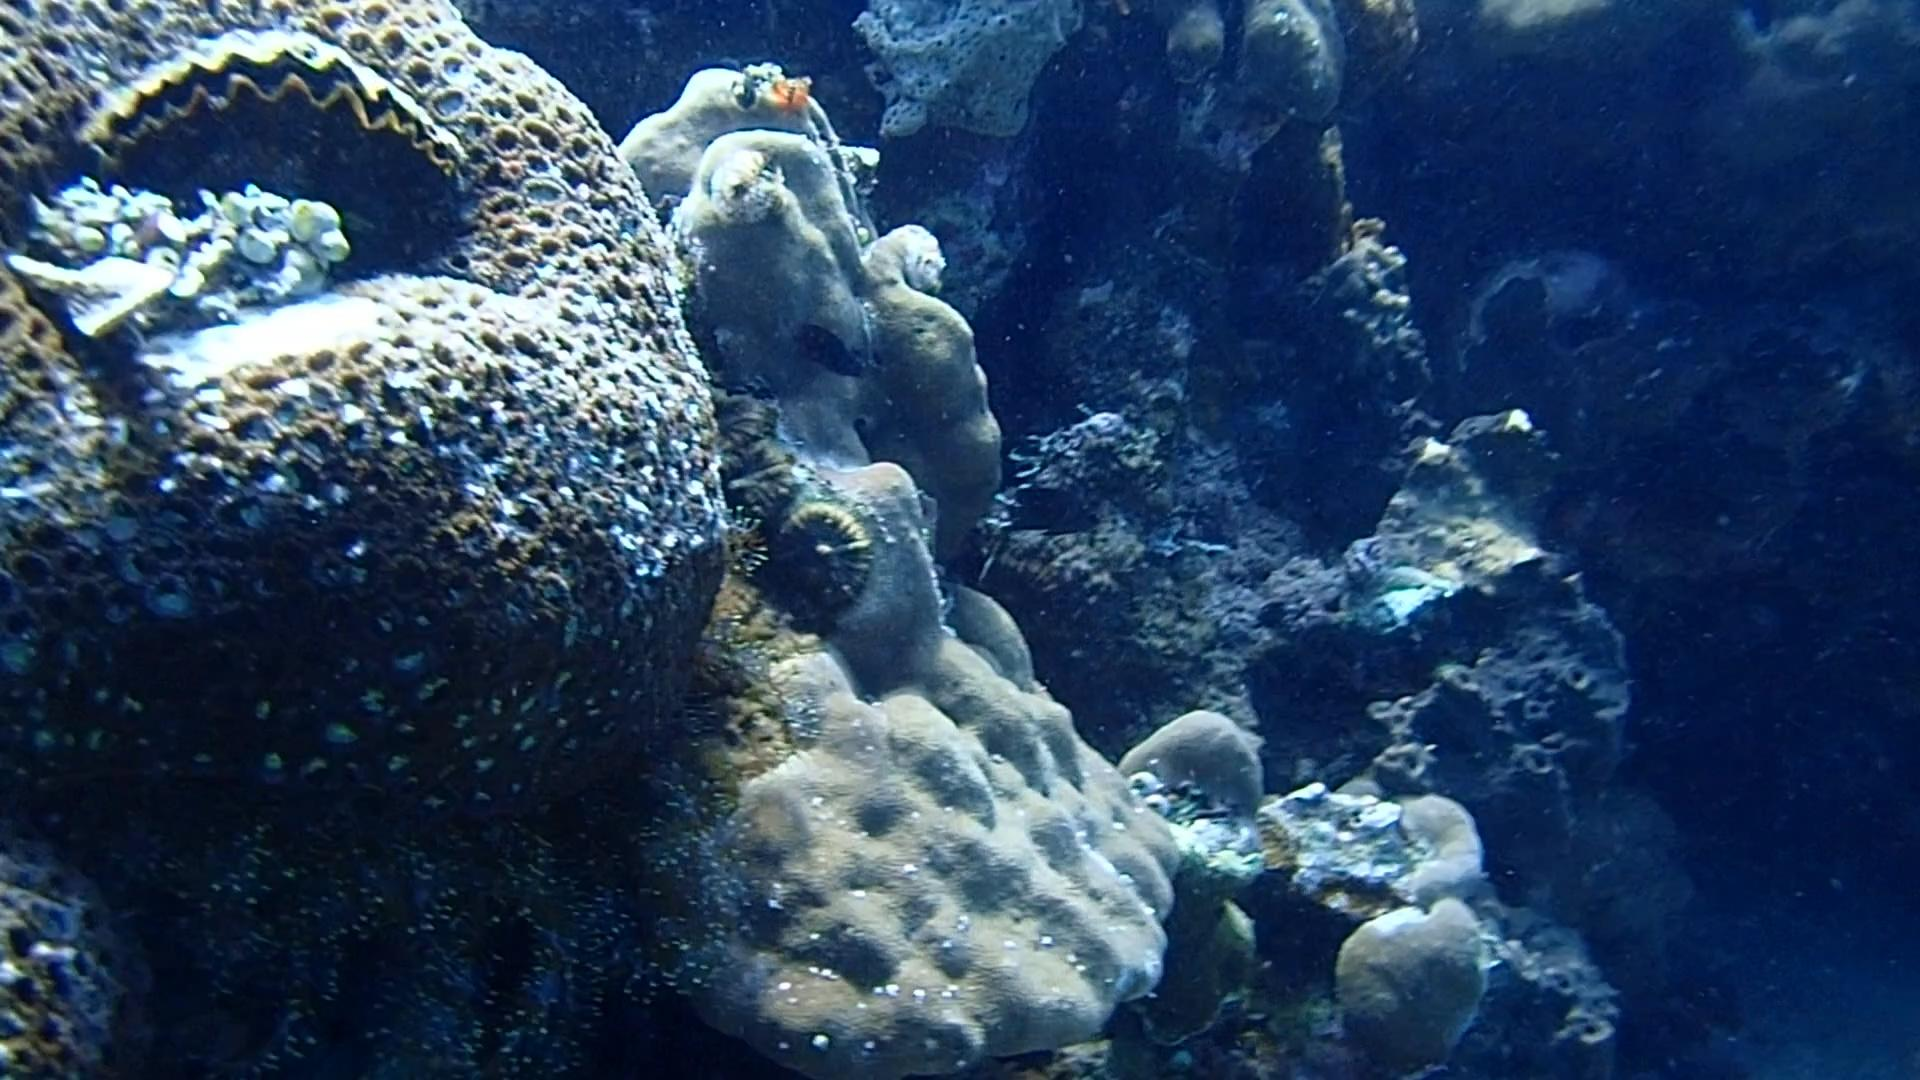Dark Fish: (992, 472, 1105, 547), (777, 311, 876, 396)
